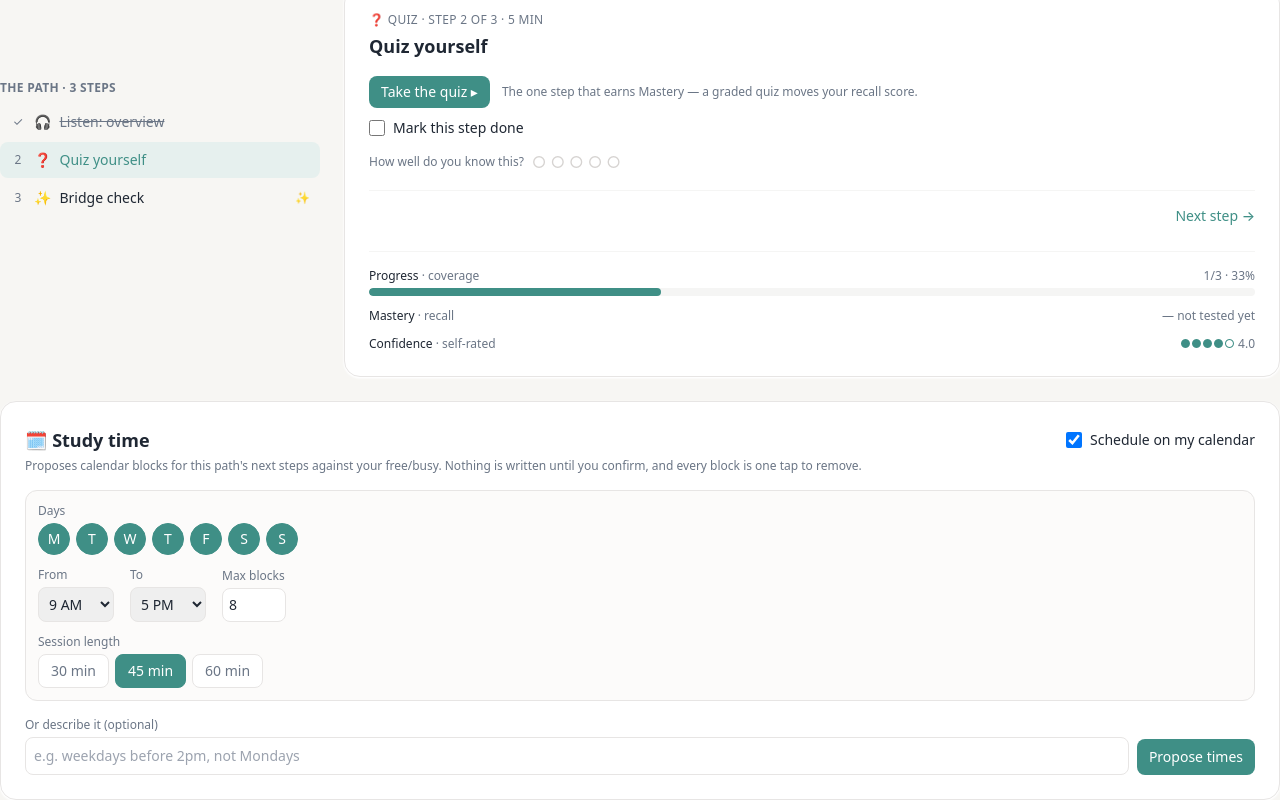
Test case: PathPlayer — Study Scheduler controls (v1) › reflects the applied knobs from the response back into the controls
(page scrolled)
Click the button "Propose times": (1196, 757) [1137,739,1255,775]
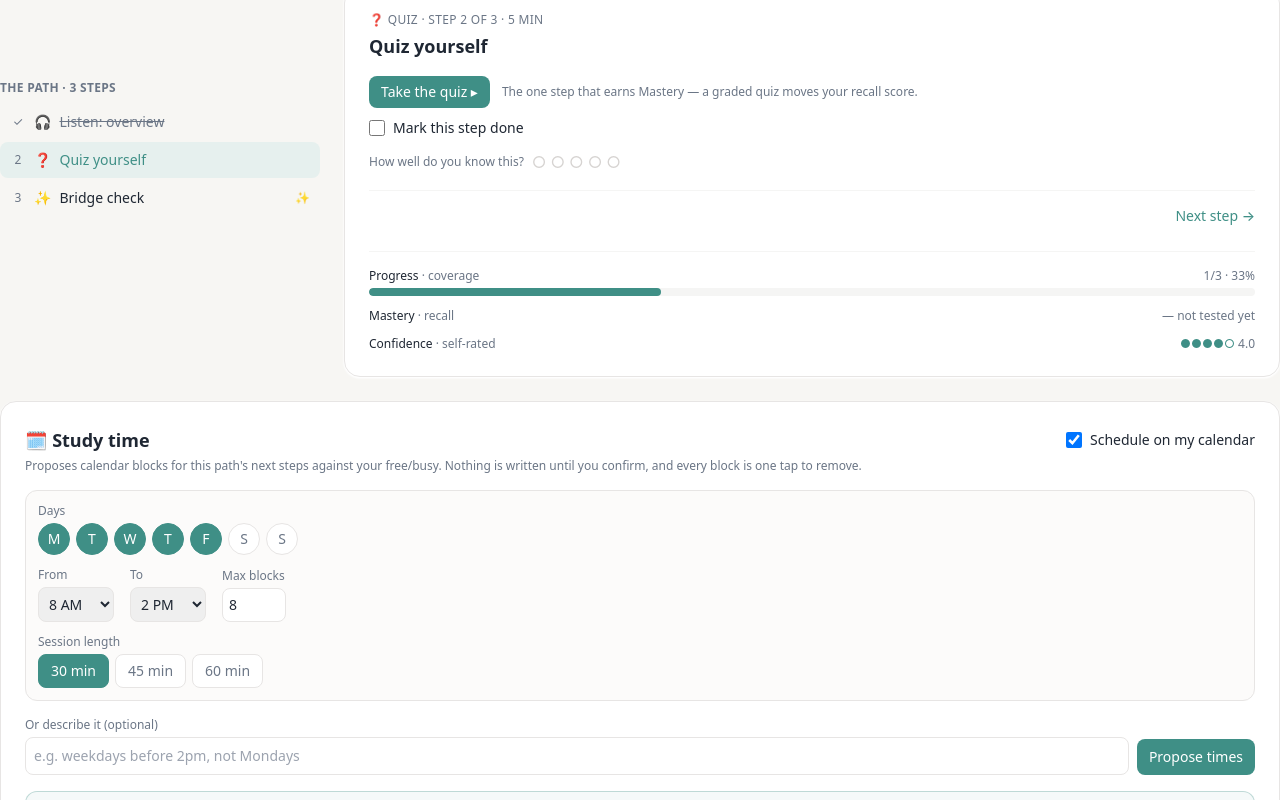
Expected: the dropdown named "Start hour" shows "8 AM", [38,587,114,622]
